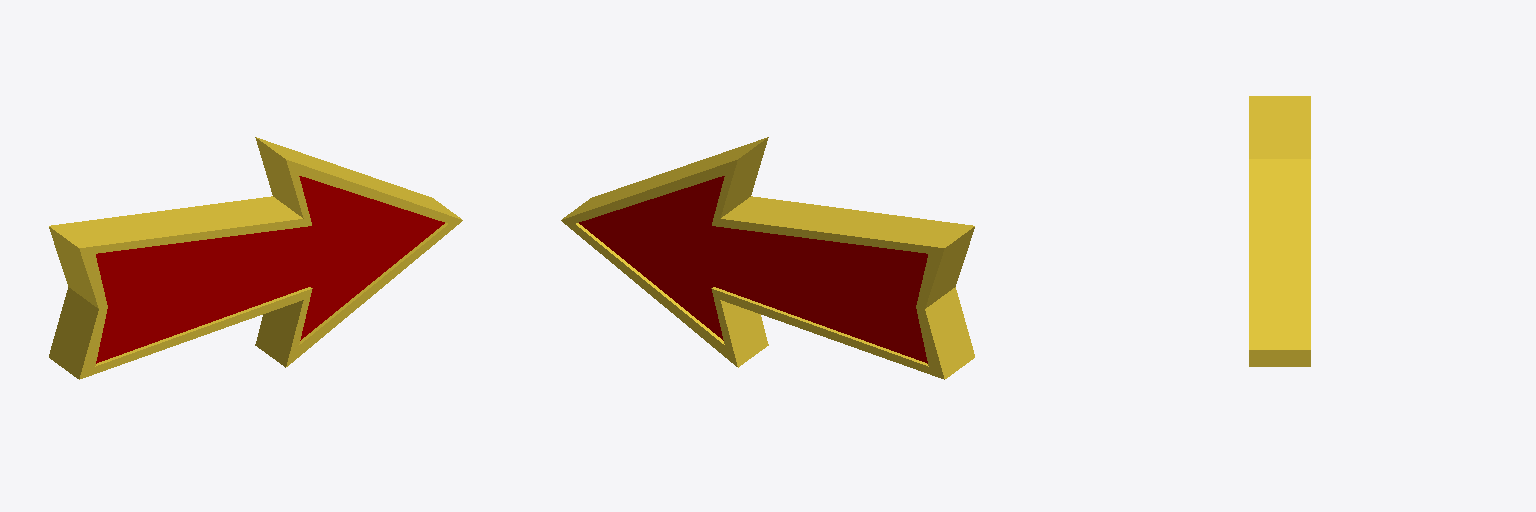
The picture shows the model from 3 angles: view 1: azimuth 30°, elevation 25°; view 2: azimuth 150°, elevation 25°; view 3: azimuth 270°, elevation 25°; orthographic projection.
Parts seen in each view (by area): view 1: Arrow_A_MDL; view 2: Arrow_A_MDL; view 3: Arrow_A_MDL.
Part boxes in pixels (x1,y1,x2,y2): Arrow_A_MDL: (49, 137, 462, 379); Arrow_A_MDL: (561, 137, 974, 379); Arrow_A_MDL: (1249, 96, 1310, 366).
Bounding box in the file's own units: 12.87 × 6.67 × 1.78.
Materials: 1 (1 with a texture image).